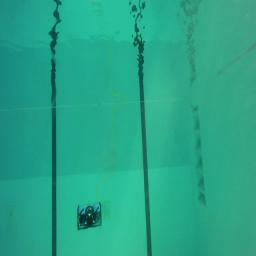front: (77, 201, 102, 231)
